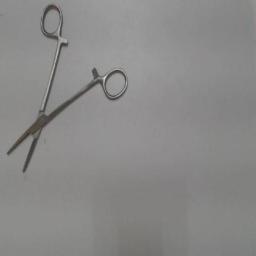Mayo Needle Holder: (4, 1, 132, 181)
